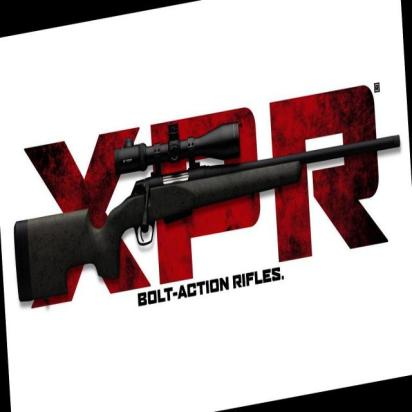Gun: (6, 90, 407, 302)
